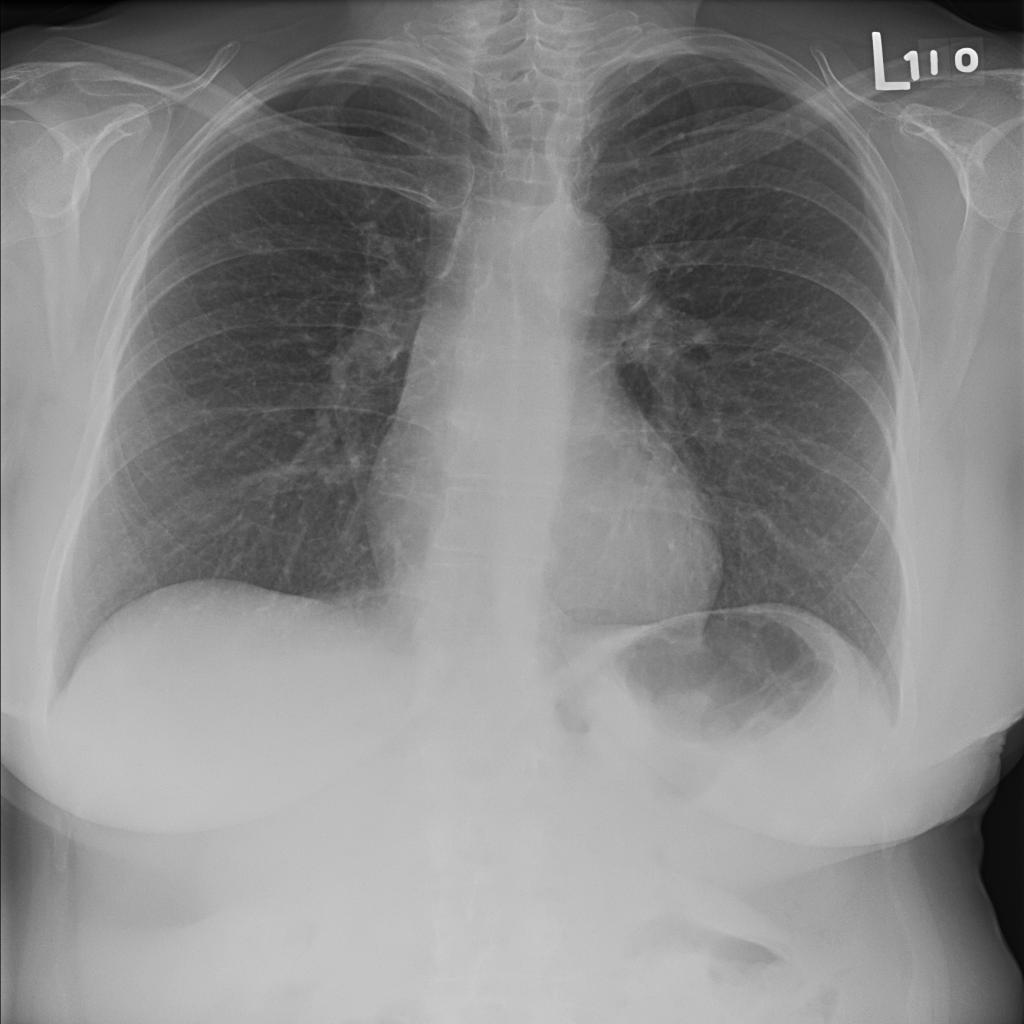Nodule: (480, 172, 530, 205)
